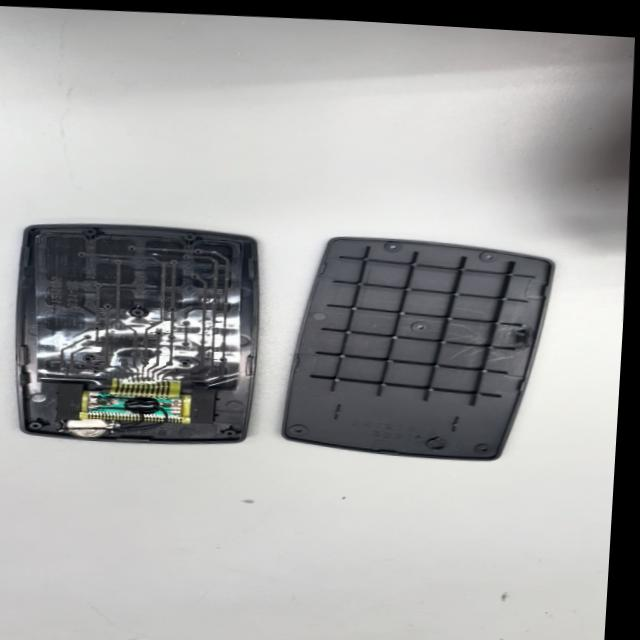back_cover: (270, 228, 571, 472)
front_panel: (0, 213, 268, 459)
